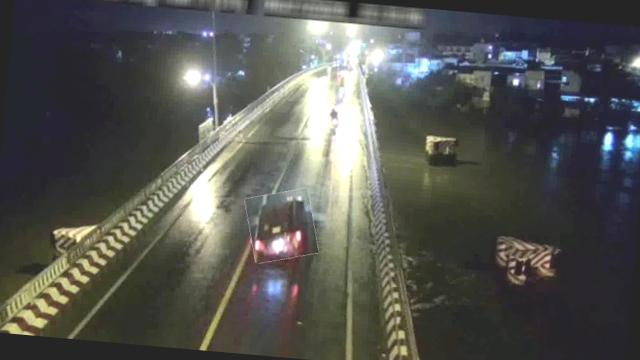Bike: (327, 107, 342, 129)
Car: (243, 186, 320, 266)
